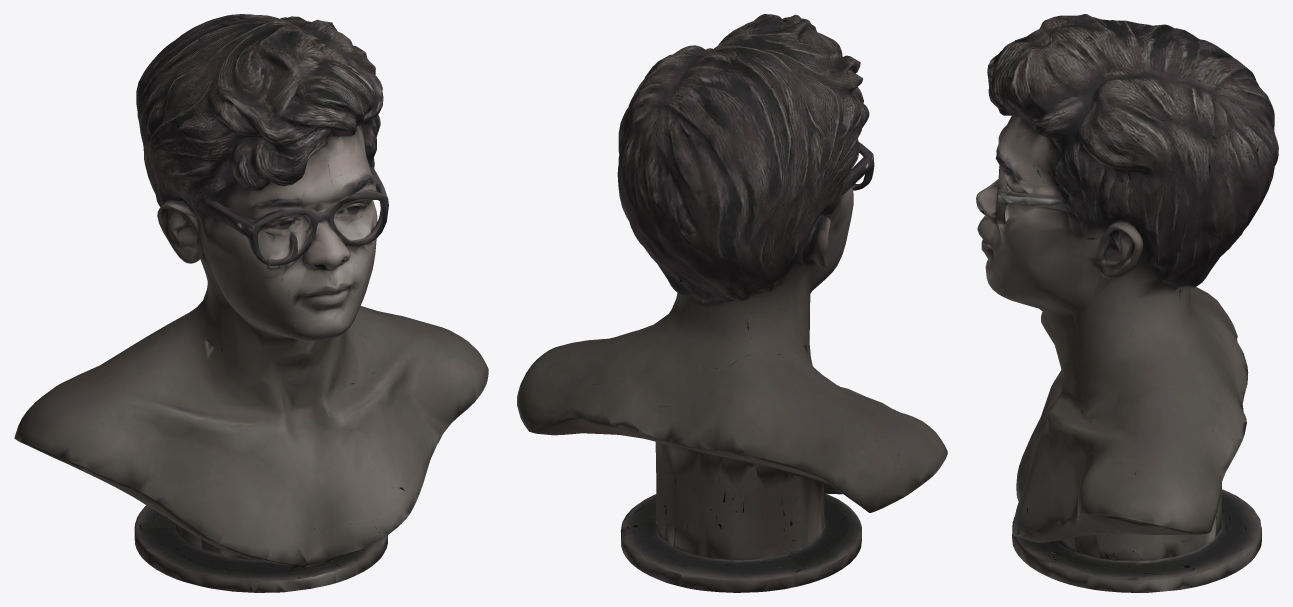
3 renders of one model, left to right at view 1: azimuth 30°, elevation 25°; view 2: azimuth 150°, elevation 25°; view 3: azimuth 270°, elevation 25°, orthographic. The views are drawn at different scales.
Visible parts, largest first — view 1: tmp8xbho3bpobj; view 2: tmp8xbho3bpobj; view 3: tmp8xbho3bpobj.
Boxes of the visible parts, x1,y1,x2,y2 form: tmp8xbho3bpobj: (14,14,488,592); tmp8xbho3bpobj: (517,14,947,592); tmp8xbho3bpobj: (976,14,1278,592).
Bounding box in the file's own units: 0.8758 × 0.9999 × 0.5296.
1 material, 1 textured.
